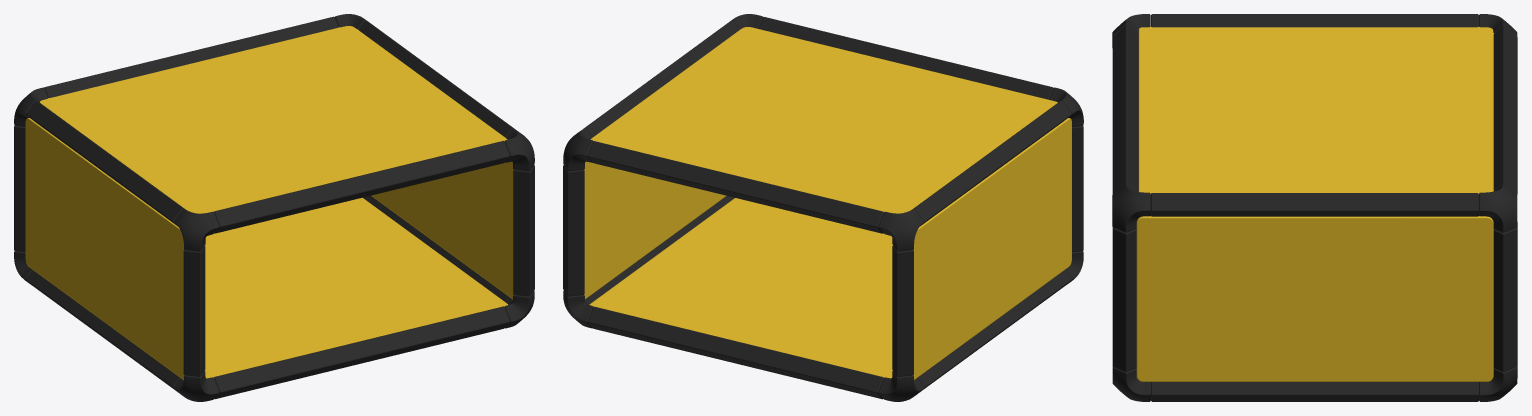
3 views of the same model, side by side, from view 1: azimuth 30°, elevation 25°; view 2: azimuth 150°, elevation 25°; view 3: azimuth 270°, elevation 25° (orthographic). The views are drawn at different scales.
Parts seen in each view (by area): view 1: 374x329x154; view 2: 374x329x154; view 3: 374x329x154.
Part boxes in pixels (x1=…): 374x329x154: x1=14, y1=14, x2=534, y2=401; 374x329x154: x1=563, y1=14, x2=1083, y2=401; 374x329x154: x1=1112, y1=14, x2=1517, y2=401.
Size of the model in its own units: 0.4517 by 0.2316 by 0.4063.
